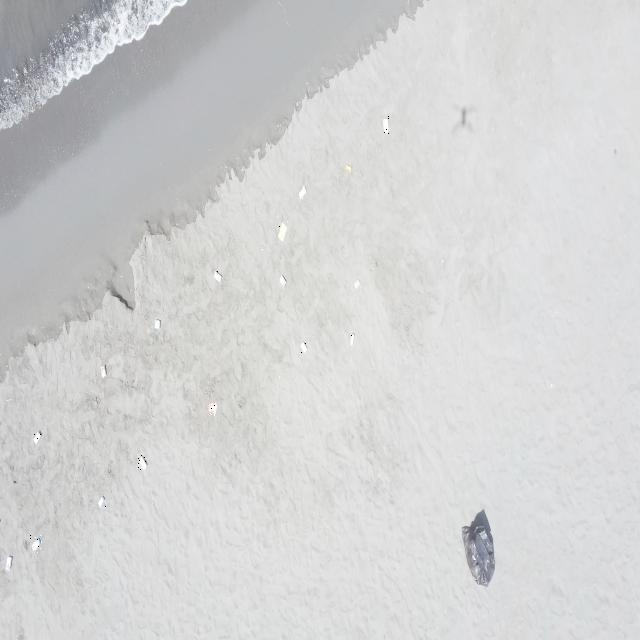Garbage: (462, 510, 493, 584), (278, 221, 286, 240), (136, 455, 147, 468), (4, 555, 12, 571), (31, 536, 40, 550), (298, 184, 306, 199), (207, 403, 216, 415), (32, 433, 42, 443), (279, 275, 286, 287), (213, 270, 220, 281), (383, 115, 387, 134), (300, 342, 307, 352), (348, 332, 353, 346), (98, 496, 104, 507), (344, 163, 351, 172), (154, 318, 160, 328), (100, 365, 105, 376), (353, 280, 359, 287)
